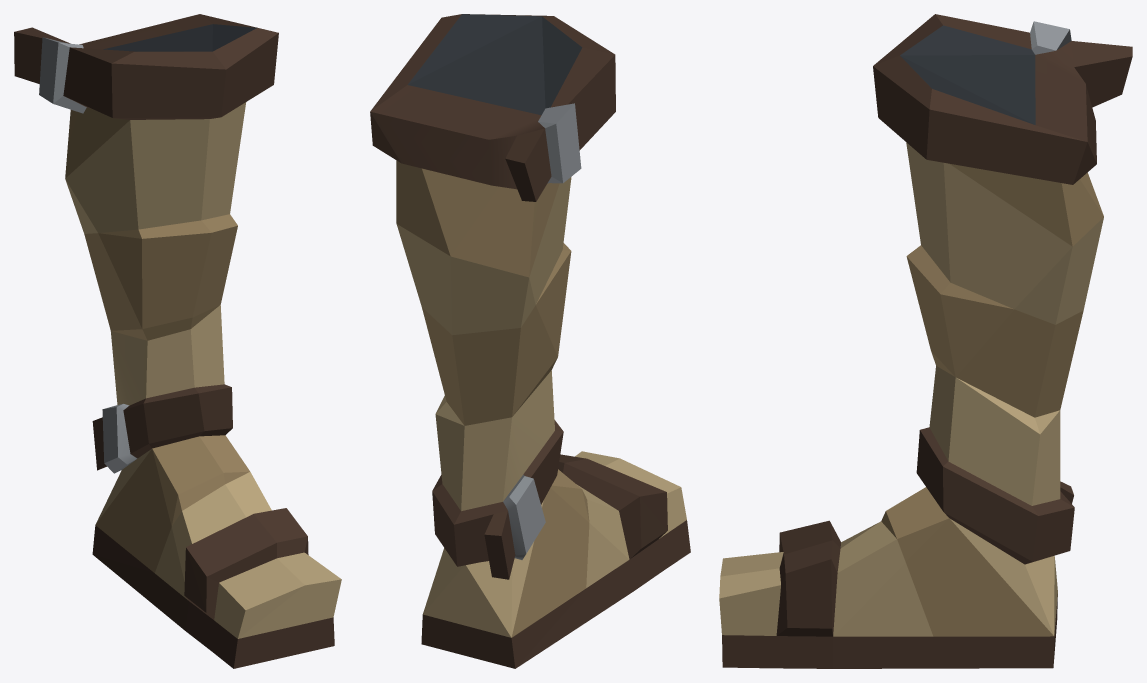
Rendered from Chr_LegRight_Female_17_Static.fbx.
The picture shows the model from 3 angles, left to right: view 1: azimuth 30°, elevation 25°; view 2: azimuth 150°, elevation 25°; view 3: azimuth 270°, elevation 25°; orthographic projection. The views are drawn at different scales.
Visible parts, largest first — view 1: Chr_LegRight_Female_17_Static; view 2: Chr_LegRight_Female_17_Static; view 3: Chr_LegRight_Female_17_Static.
Boxes of the visible parts, x1=… form: Chr_LegRight_Female_17_Static: x1=14, y1=14, x2=341, y2=668; Chr_LegRight_Female_17_Static: x1=370, y1=14, x2=690, y2=668; Chr_LegRight_Female_17_Static: x1=719, y1=14, x2=1132, y2=668.
Size of the model in its own units: 0.1377 by 0.402 by 0.255.
